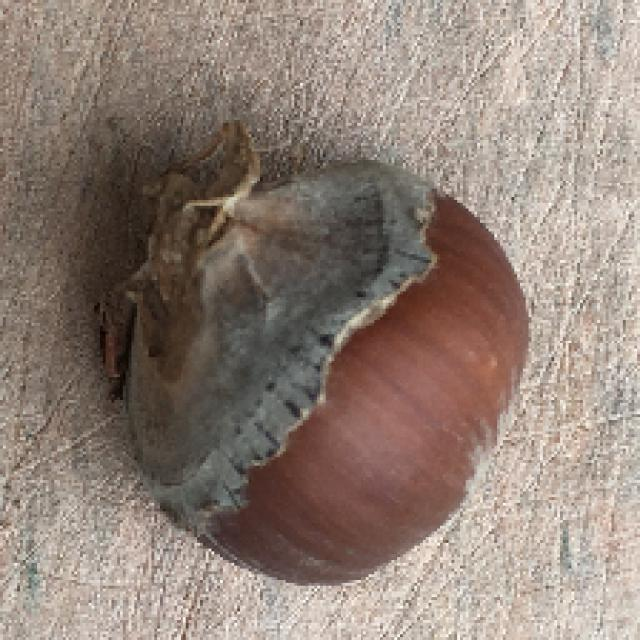damagedHazelnut: (98, 111, 537, 588)
